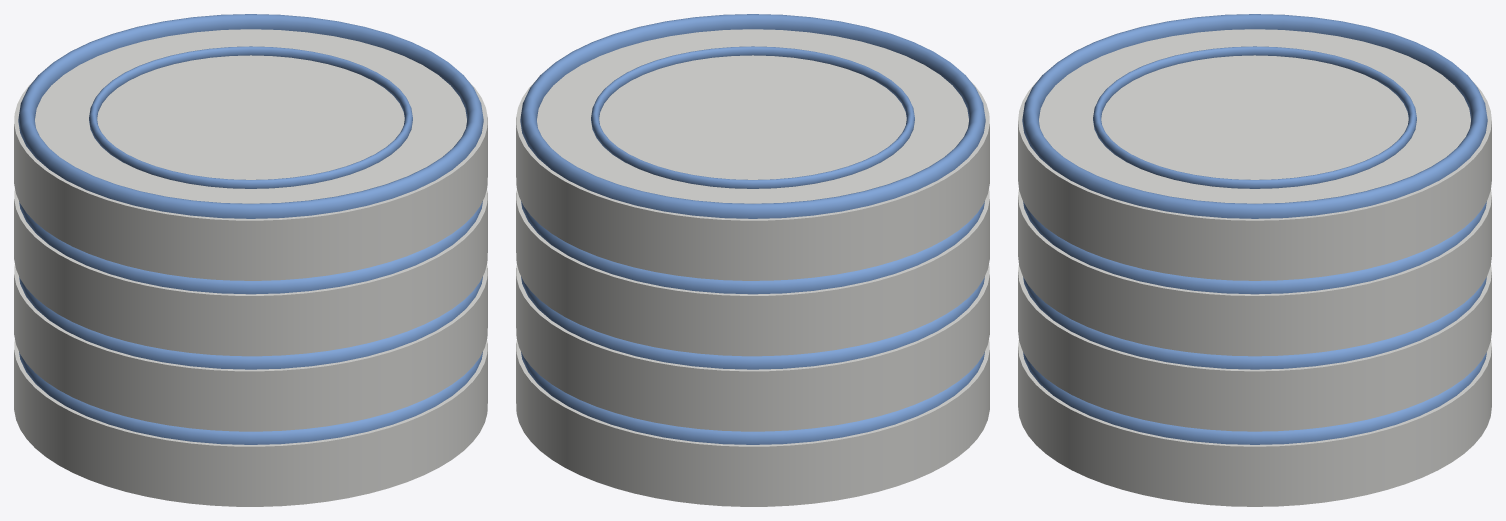
Rendered from plates.glb.
3 renders of one model, left to right at view 1: azimuth 30°, elevation 25°; view 2: azimuth 150°, elevation 25°; view 3: azimuth 270°, elevation 25°, orthographic.
Parts seen in each view (by area): view 1: Cylinder.007, Cylinder.006, Cylinder.005, Cylinder.004, Torus.014, Torus.015, Torus.008, Torus.010, Torus.012; view 2: Cylinder.007, Cylinder.006, Cylinder.005, Cylinder.004, Torus.014, Torus.015, Torus.008, Torus.010, Torus.012; view 3: Cylinder.007, Cylinder.005, Cylinder.004, Cylinder.006, Torus.014, Torus.015, Torus.010, Torus.012, Torus.008.
Part boxes in pixels (bbox=[...]): Cylinder.007: bbox=[14, 29, 487, 280]; Cylinder.006: bbox=[14, 188, 487, 356]; Cylinder.005: bbox=[14, 264, 487, 431]; Cylinder.004: bbox=[14, 339, 487, 506]; Torus.014: bbox=[18, 14, 483, 218]; Torus.015: bbox=[89, 46, 412, 188]; Torus.008: bbox=[19, 352, 482, 444]; Torus.010: bbox=[19, 276, 482, 369]; Torus.012: bbox=[19, 201, 482, 294]; Cylinder.007: bbox=[516, 29, 989, 280]; Cylinder.006: bbox=[516, 188, 989, 356]; Cylinder.005: bbox=[516, 264, 989, 431]; Cylinder.004: bbox=[516, 339, 989, 506]; Torus.014: bbox=[520, 14, 985, 218]; Torus.015: bbox=[591, 46, 914, 188]; Torus.008: bbox=[521, 352, 984, 444]; Torus.010: bbox=[521, 276, 984, 369]; Torus.012: bbox=[521, 201, 984, 294]; Cylinder.007: bbox=[1018, 29, 1491, 280]; Cylinder.005: bbox=[1018, 265, 1491, 431]; Cylinder.004: bbox=[1018, 340, 1491, 506]; Cylinder.006: bbox=[1018, 189, 1491, 356]; Torus.014: bbox=[1022, 14, 1487, 218]; Torus.015: bbox=[1093, 46, 1416, 188]; Torus.010: bbox=[1023, 277, 1486, 369]; Torus.012: bbox=[1023, 201, 1486, 294]; Torus.008: bbox=[1023, 352, 1486, 444].
Bounding box in the file's own units: 5.7 × 3.95 × 5.7.
